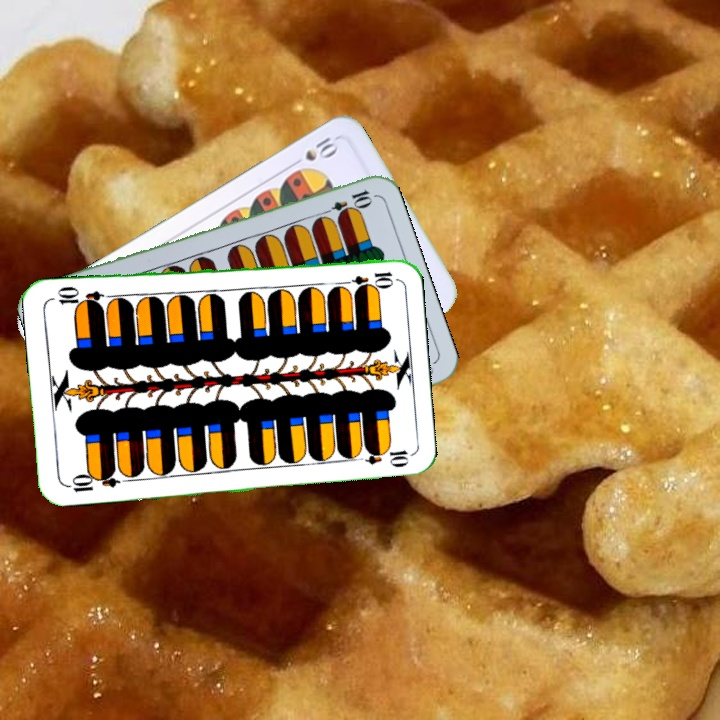E10: (317, 186, 375, 220), (62, 467, 121, 495), (337, 267, 396, 289)
S10: (301, 133, 341, 164)
